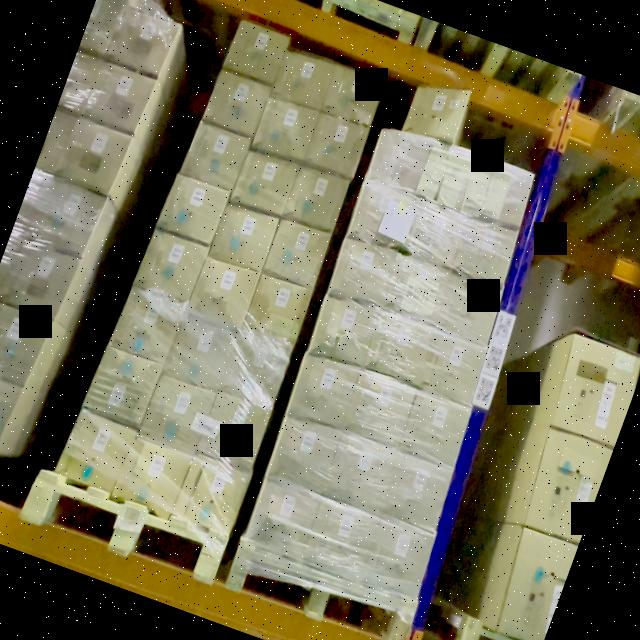box: (521, 432, 612, 546), (550, 333, 640, 445), (491, 530, 577, 640), (58, 412, 135, 494), (304, 502, 381, 582), (86, 347, 162, 428), (114, 438, 192, 516), (360, 520, 436, 600), (174, 459, 250, 538), (322, 436, 398, 514), (142, 376, 216, 453), (248, 481, 321, 558), (5, 242, 78, 319), (344, 372, 417, 448), (198, 394, 270, 471), (137, 228, 209, 304), (268, 418, 340, 493), (165, 318, 237, 393), (288, 354, 359, 429), (188, 259, 259, 333), (381, 456, 452, 530), (114, 290, 185, 364), (403, 393, 473, 467), (221, 334, 292, 406), (310, 294, 380, 367), (159, 176, 229, 247), (366, 312, 436, 383), (59, 121, 128, 193), (330, 238, 400, 308), (349, 182, 418, 252), (245, 272, 312, 344), (211, 204, 279, 274), (437, 274, 505, 344), (36, 181, 101, 254), (182, 123, 250, 192), (233, 148, 300, 216), (421, 333, 486, 403), (284, 164, 350, 232), (264, 220, 330, 288), (382, 256, 448, 324), (86, 64, 152, 132), (454, 218, 520, 284), (304, 112, 369, 178), (204, 73, 270, 138), (404, 201, 469, 267), (406, 80, 472, 144), (254, 99, 318, 164), (226, 20, 290, 85), (472, 162, 534, 228), (419, 146, 481, 212), (367, 130, 430, 194), (0, 303, 48, 385), (321, 66, 385, 127), (274, 50, 335, 111), (36, 112, 73, 173), (0, 367, 17, 454)
